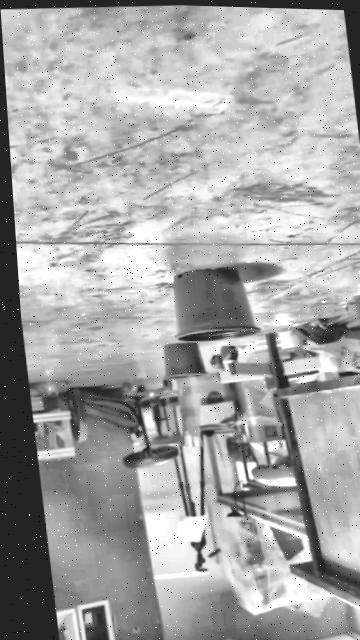pot: (175, 268, 260, 342), (164, 342, 206, 379)
